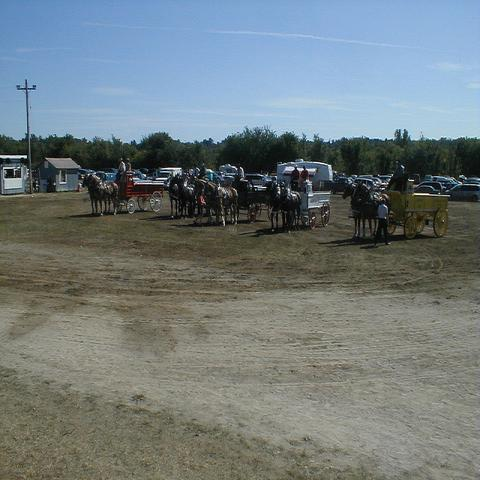car: (446, 184, 480, 202), (354, 178, 386, 192), (416, 181, 447, 195), (242, 174, 273, 186), (412, 185, 440, 195), (438, 179, 461, 191), (463, 176, 479, 185), (369, 178, 382, 187), (432, 176, 449, 182), (412, 174, 420, 184)
